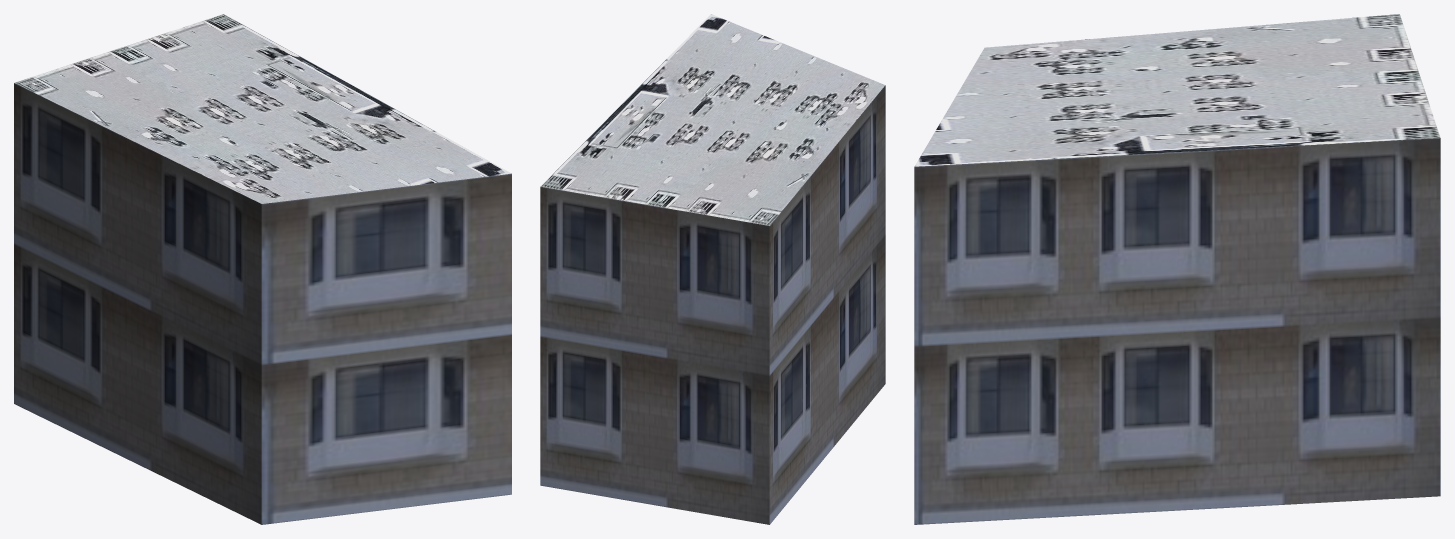
The model's file is ResTex__529.fbx.
3 views of the same model, side by side, from view 1: azimuth 30°, elevation 25°; view 2: azimuth 150°, elevation 25°; view 3: azimuth 270°, elevation 25° (orthographic). The views are drawn at different scales.
Visible parts, largest first — view 1: CityEngineMaterial_3_m, CityEngineMaterial_m; view 2: CityEngineMaterial_3_m, CityEngineMaterial_m; view 3: CityEngineMaterial_3_m, CityEngineMaterial_m.
Boxes of the visible parts, <box> form: CityEngineMaterial_3_m: <box>14,83,511,524</box>; CityEngineMaterial_m: <box>14,14,511,203</box>; CityEngineMaterial_3_m: <box>540,85,885,524</box>; CityEngineMaterial_m: <box>541,14,885,225</box>; CityEngineMaterial_3_m: <box>914,138,1440,524</box>; CityEngineMaterial_m: <box>914,14,1440,166</box>.
Size of the model in its own units: 5.49 by 6 by 7.99.
2 materials, 2 textured.
